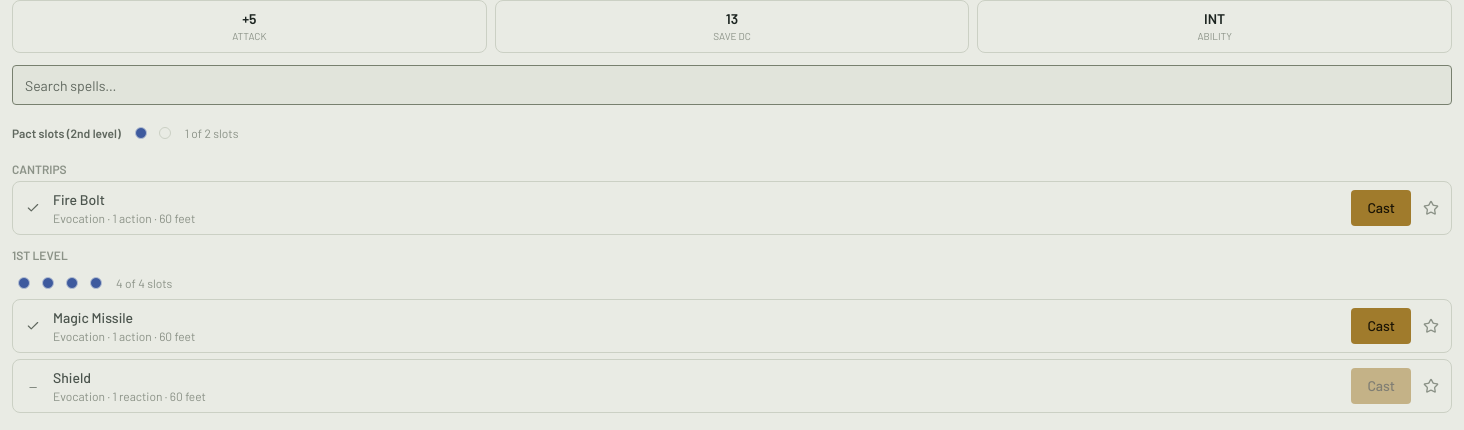
it: SpellsTab › shows the no-matches empty state
Type "nonexistent spell" into the search field labelled "Search spells…". click: coordinates (732, 85)
box: [12,65,1452,105]
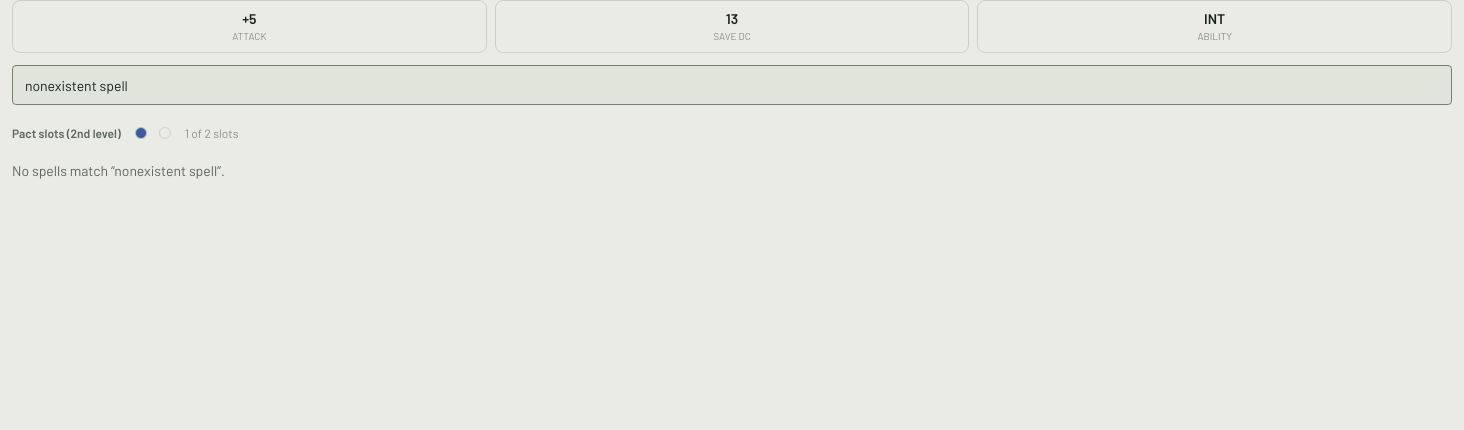
Now the text "No spells match “nonexistent spell”." is shown, box [12,162,225,179]
